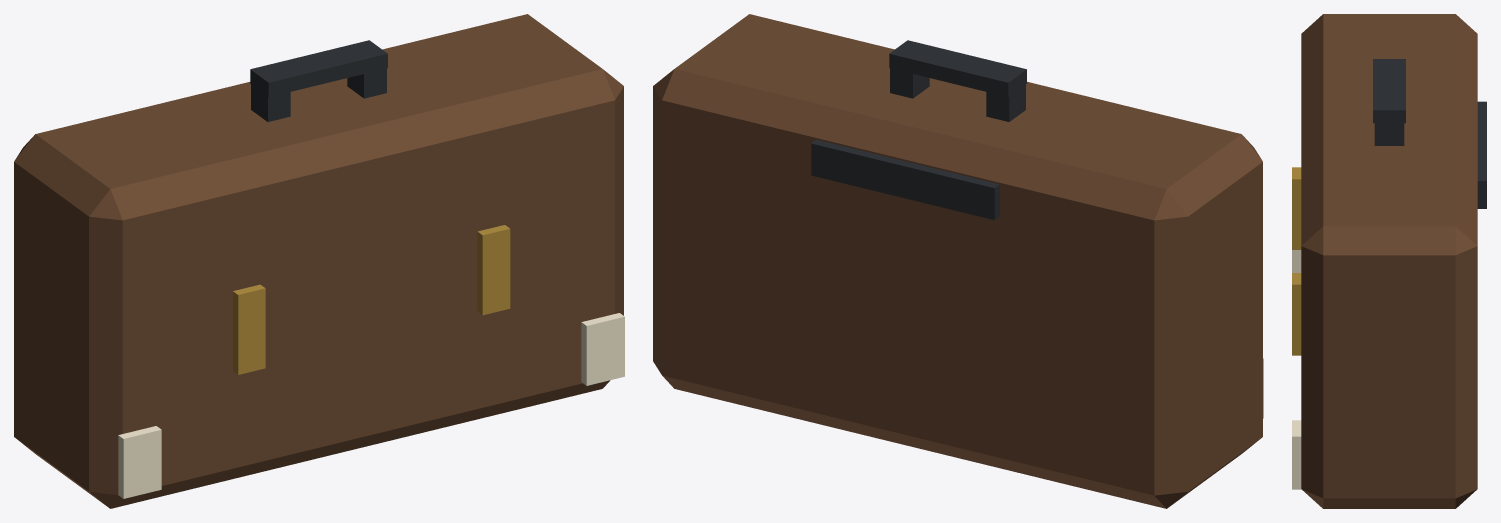
The model's file is prop-suitcase.glb.
The picture shows the model from 3 angles, left to right: view 1: azimuth 30°, elevation 25°; view 2: azimuth 150°, elevation 25°; view 3: azimuth 270°, elevation 25°; orthographic projection. The views are drawn at different scales.
Parts seen in each view (by area): view 1: prop-suitcase; view 2: prop-suitcase; view 3: prop-suitcase.
Boxes of the visible parts, x1=… form: prop-suitcase: x1=14, y1=14, x2=624, y2=508; prop-suitcase: x1=653, y1=14, x2=1263, y2=508; prop-suitcase: x1=1292, y1=14, x2=1486, y2=508.
Size of the model in its own units: 0.7 by 0.45 by 0.25.
